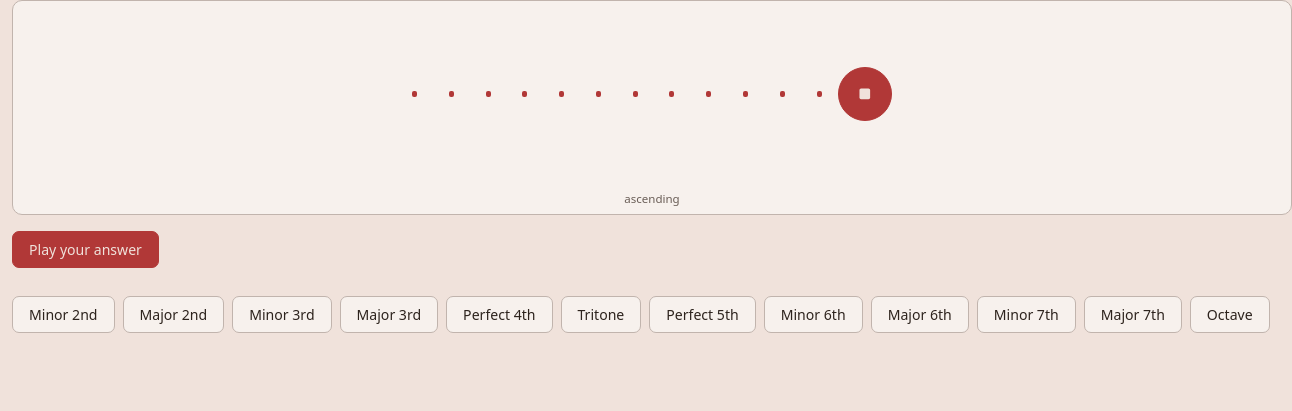
Test: answering by playing › says what it heard, so a wrong reading is visible rather than mysterious
Click the button "Play your answer" at point(85, 250), box [12, 231, 159, 268]
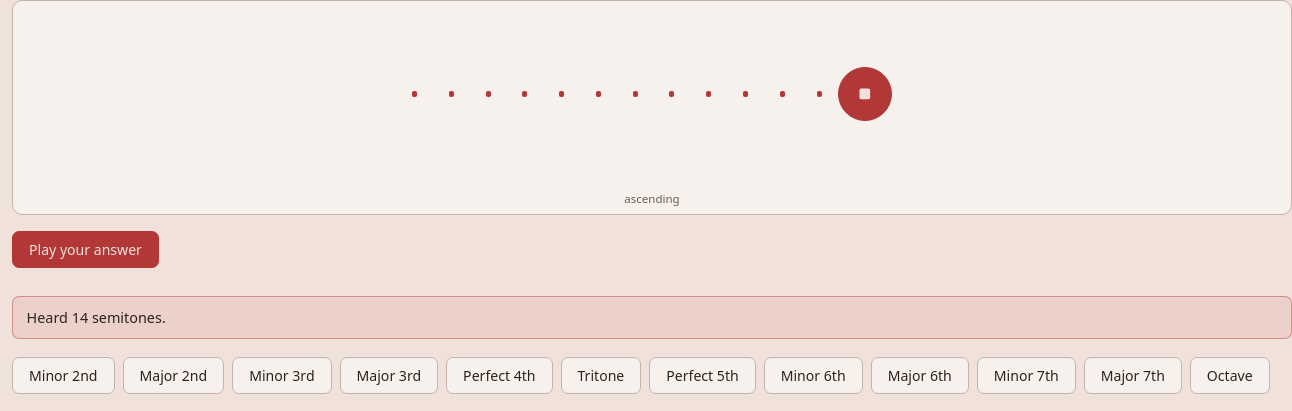
Now the text "14 semitones" is shown, box [27, 308, 166, 327]
